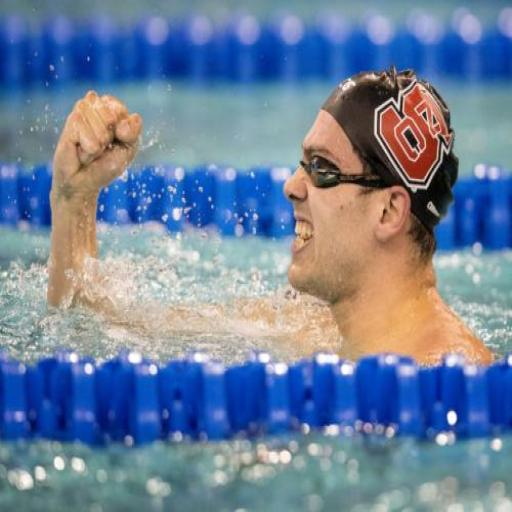swimming: (43, 64, 499, 367)
